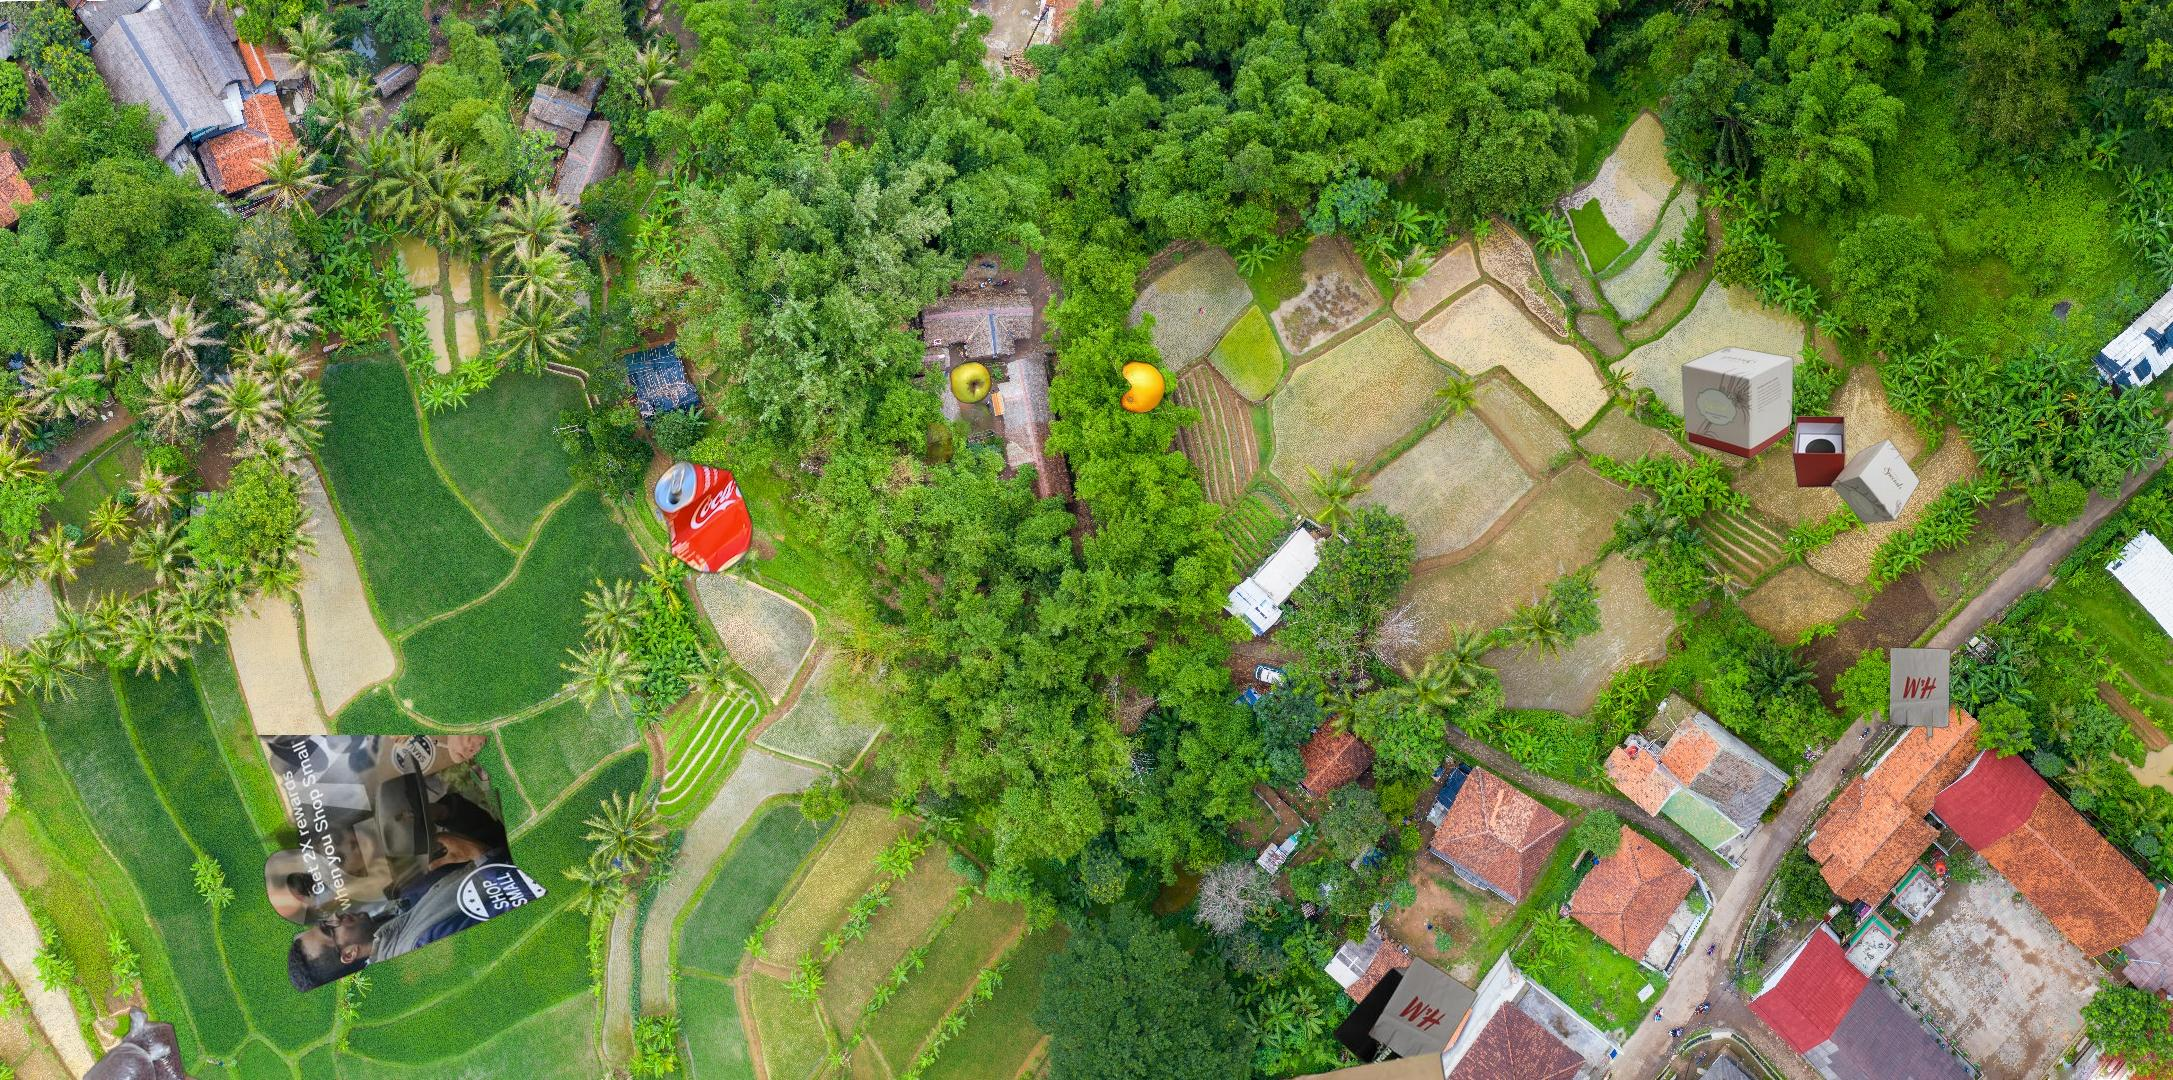biological: (926, 304, 1170, 489)
metal-cans: (650, 453, 757, 580)
paper: (236, 735, 552, 997)
paper-bag: (1269, 954, 1481, 1080), (1888, 645, 1954, 749)
trashbox-cardboard: (1680, 344, 1924, 525), (22, 919, 254, 1080)
